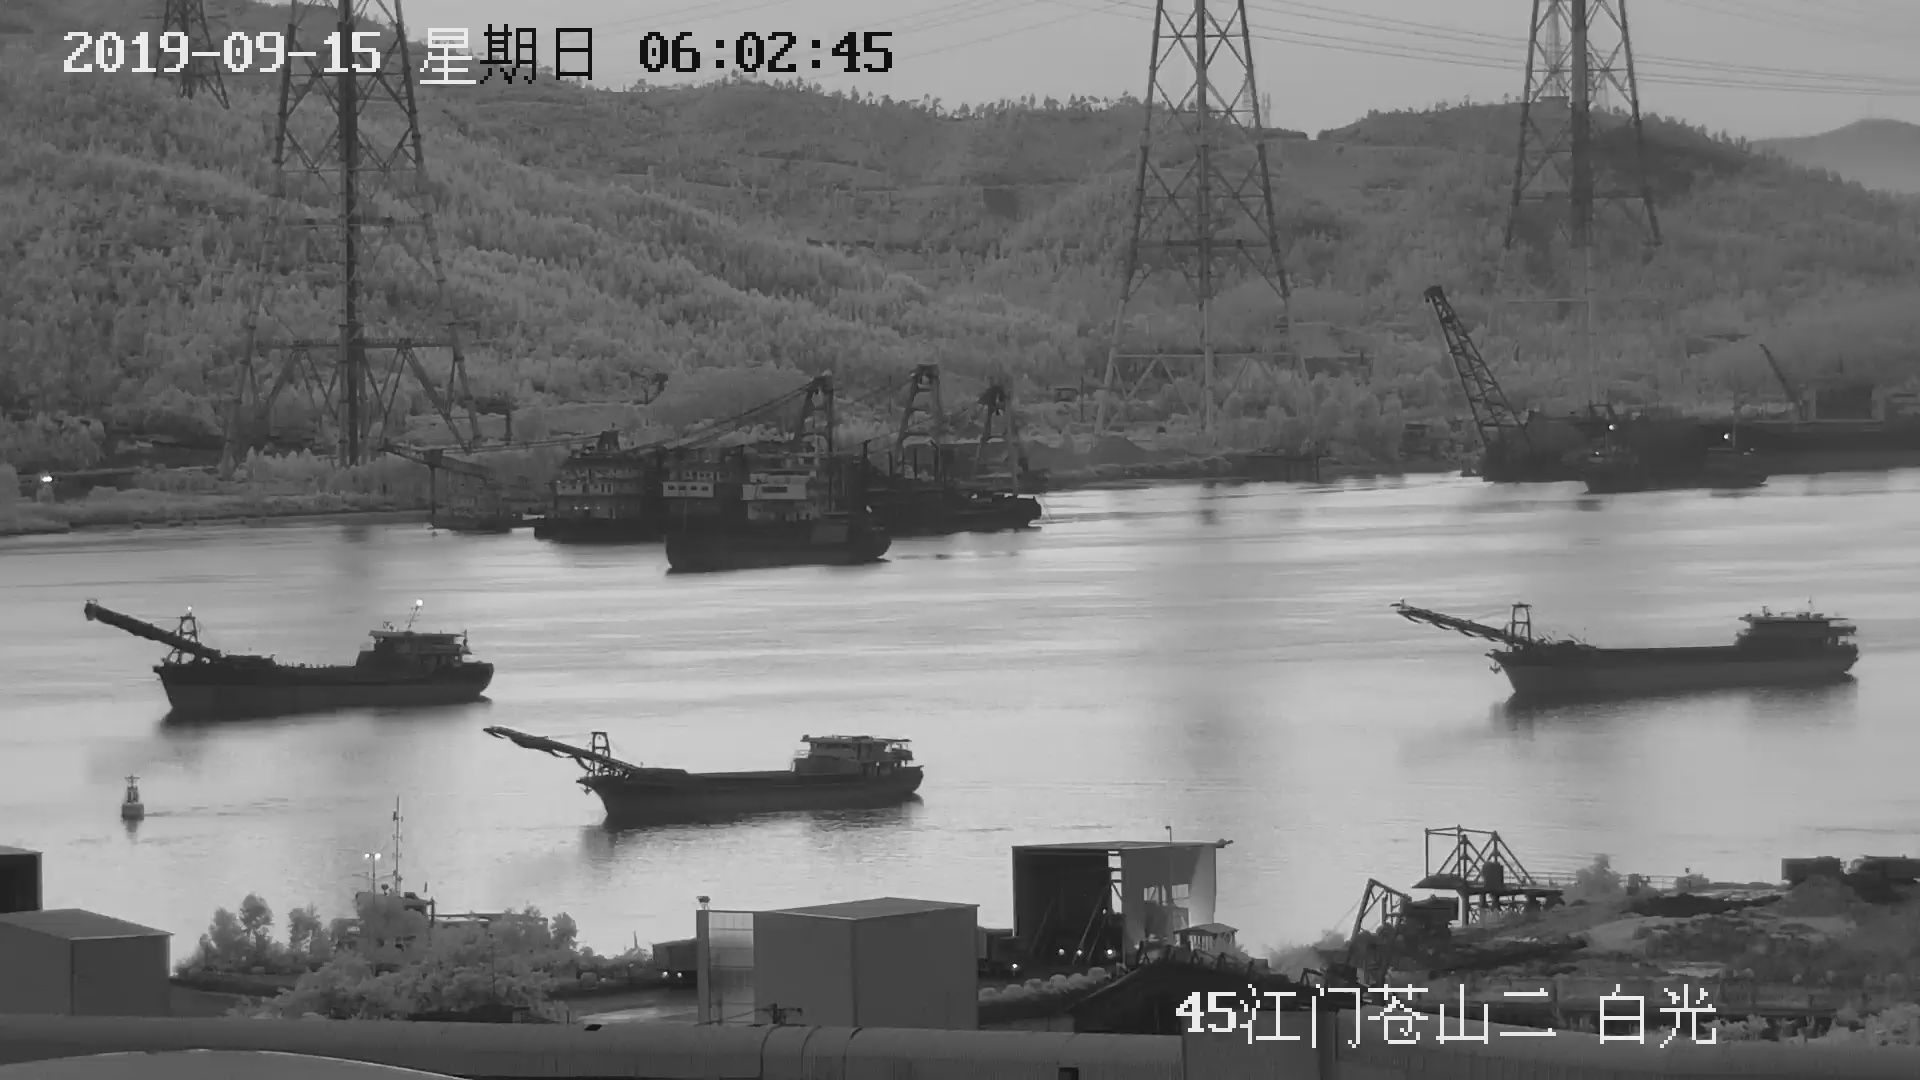ship: (79, 593, 493, 725), (1414, 588, 1869, 695), (491, 727, 920, 833)
